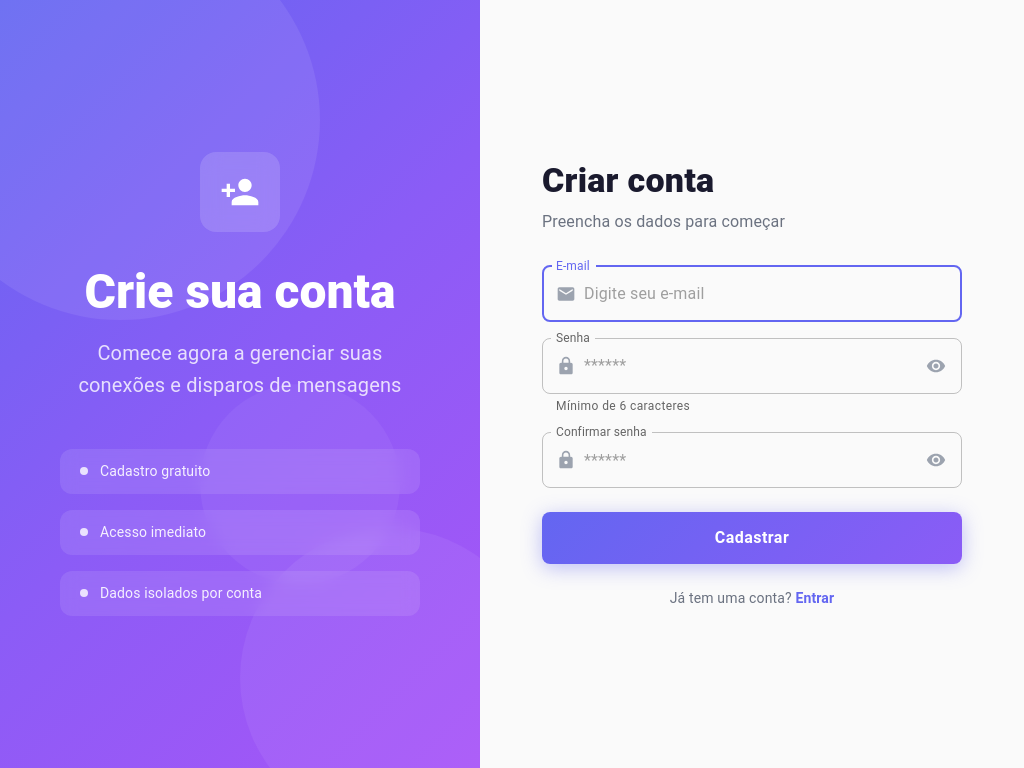
RegisterPage › shows error when passwords do not match
The width and height of the screenshot is (1024, 768).
Type "user@test.com" into the field labelled "E-mail" at (773, 294), box [584, 266, 962, 322]
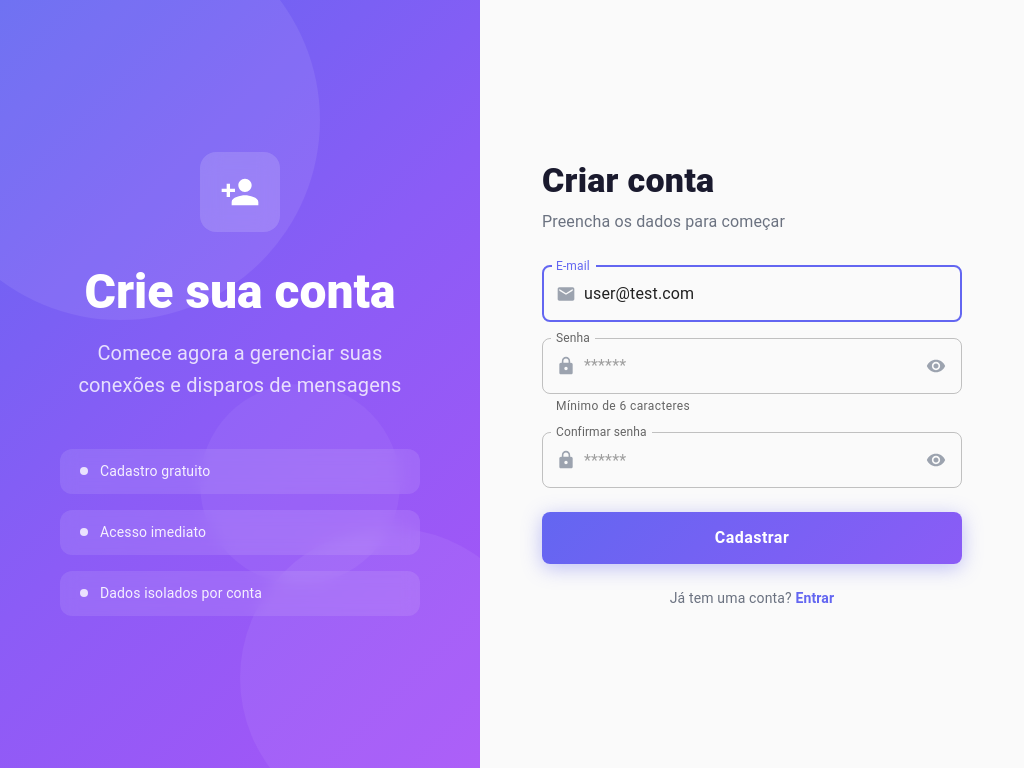
Type "123456" into the password field labelled "Senha" at (748, 366), box [584, 338, 913, 394]
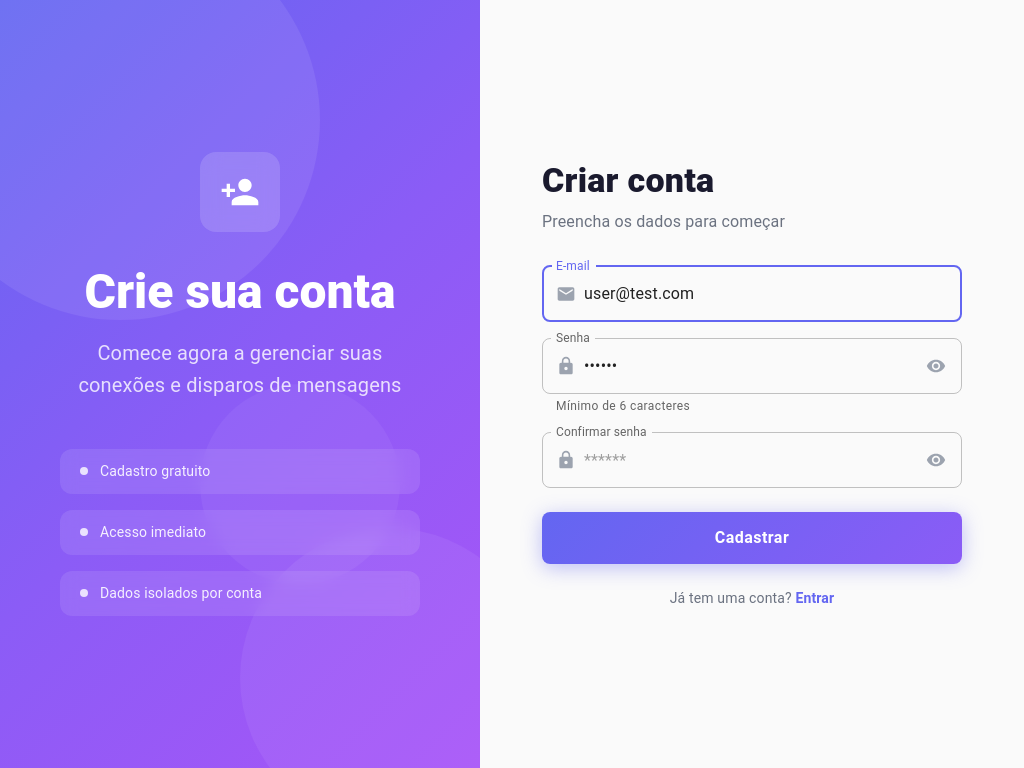
Type "654321" into the password field labelled "Confirmar senha" at (748, 460), box [584, 432, 913, 488]
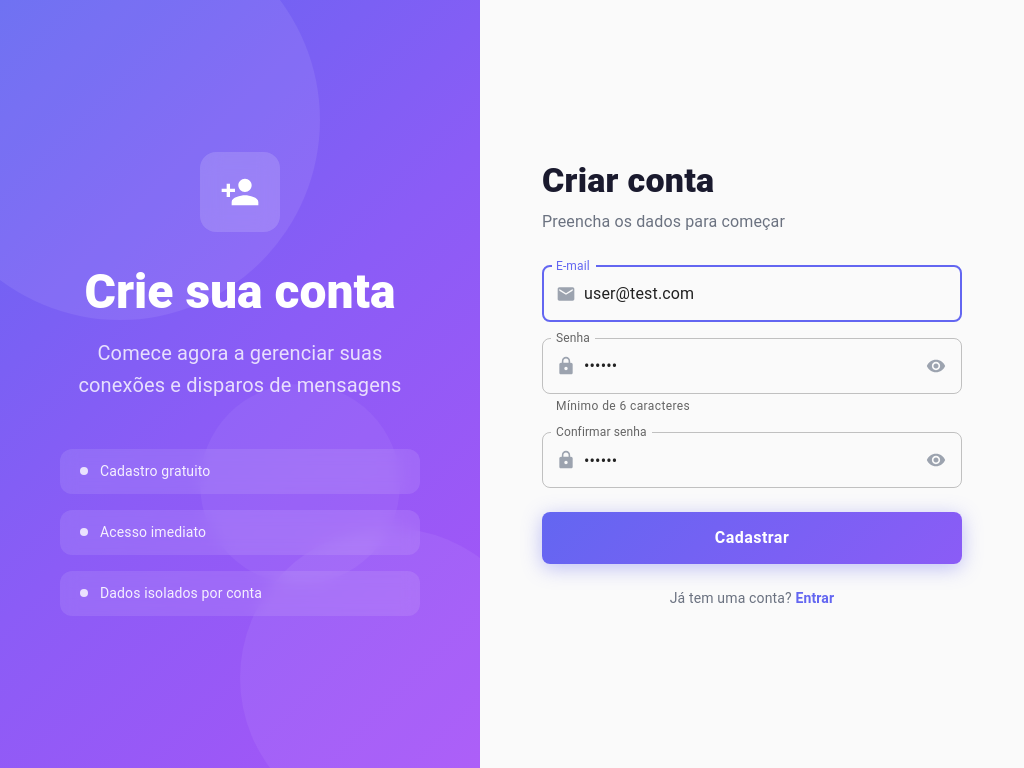
Click the button "Cadastrar" at (752, 538), box [542, 512, 962, 564]
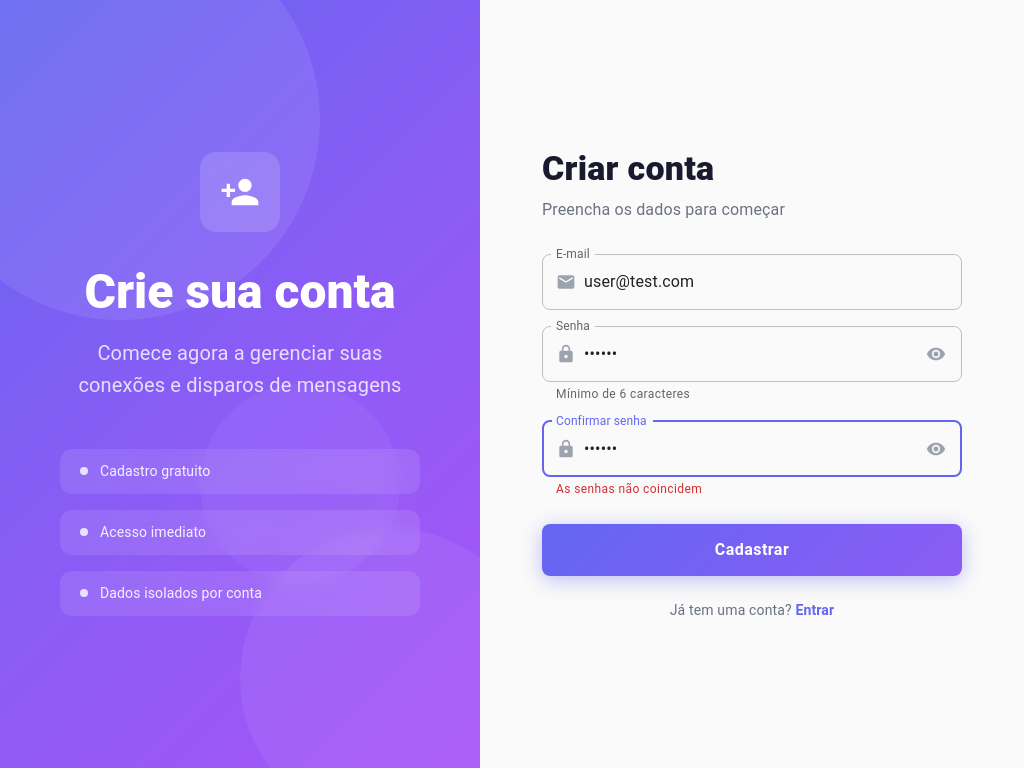
Expected: the text "As senhas não coincidem" is shown, [556, 482, 702, 496]
